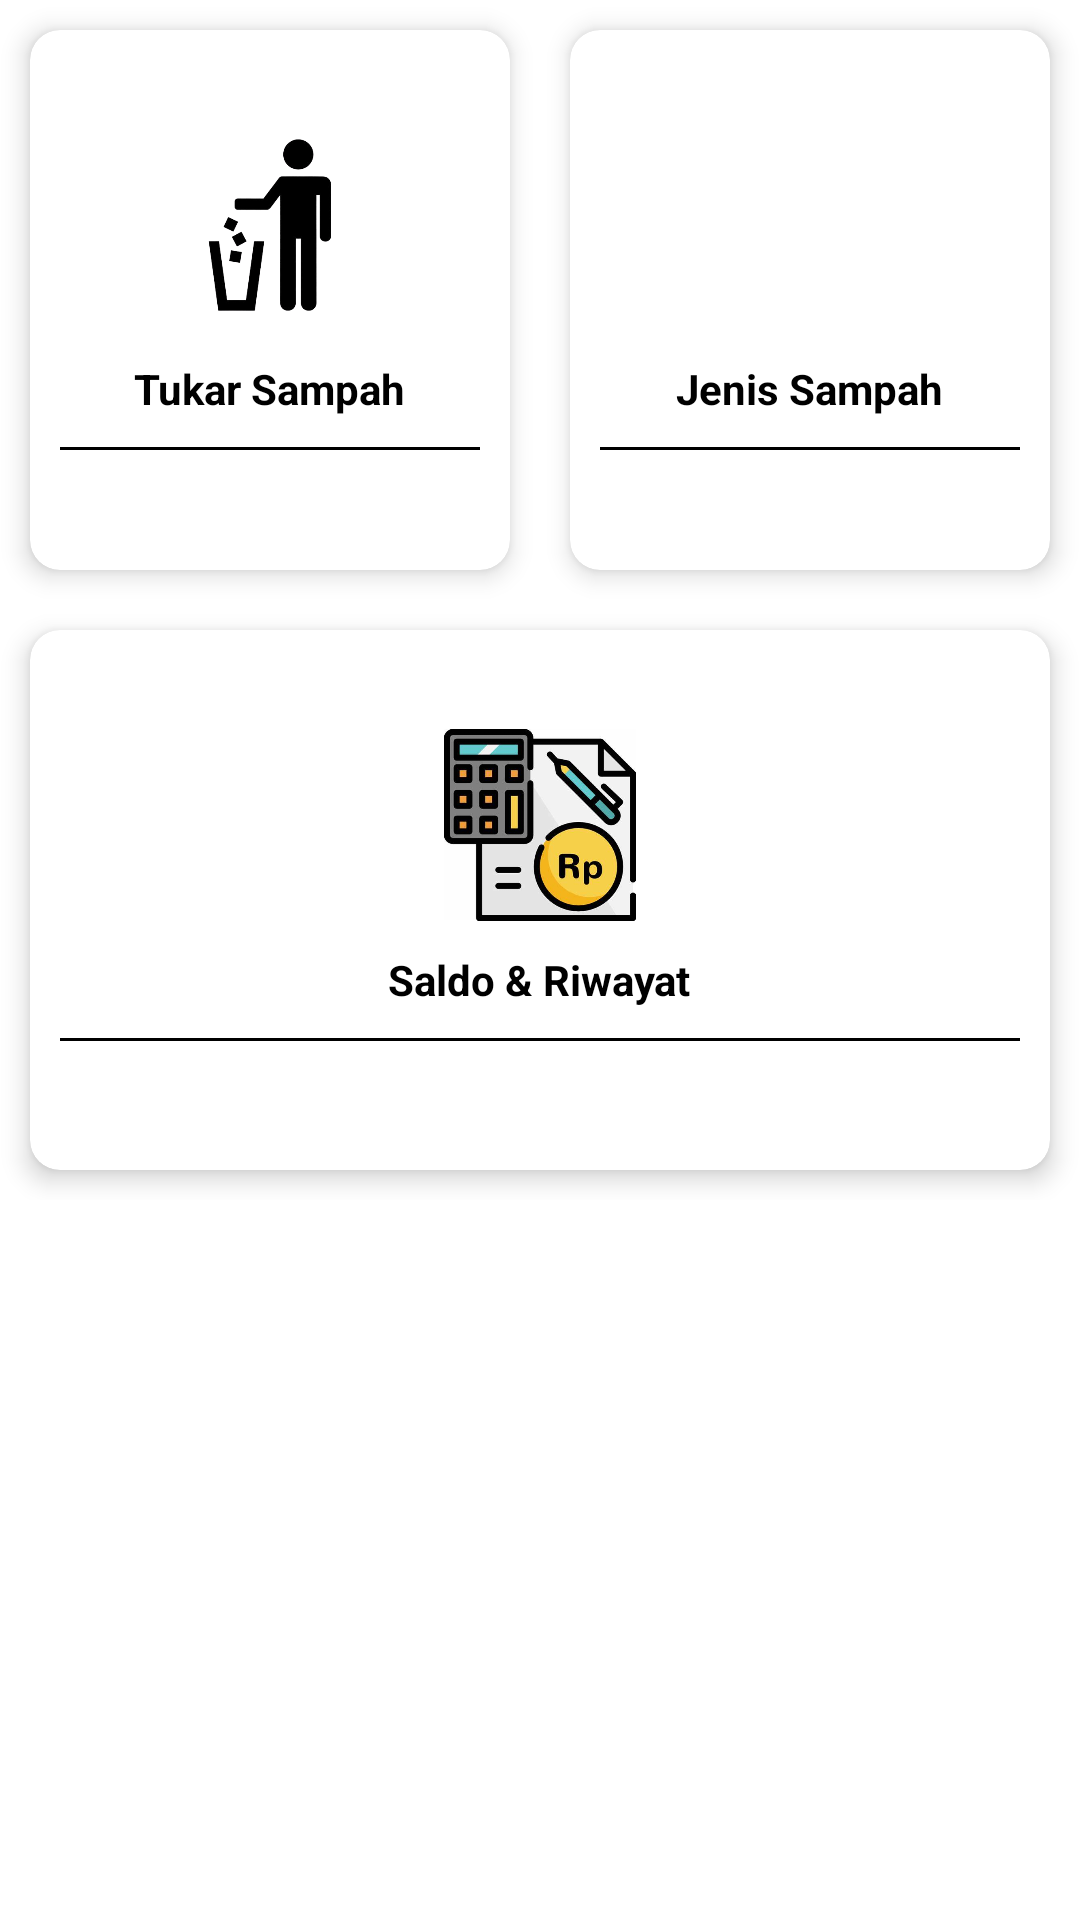

Point at icon controls on the screen. Image size 1080px×1920px, points as point (x, y).
riwayatransaksi: point (540, 825)
